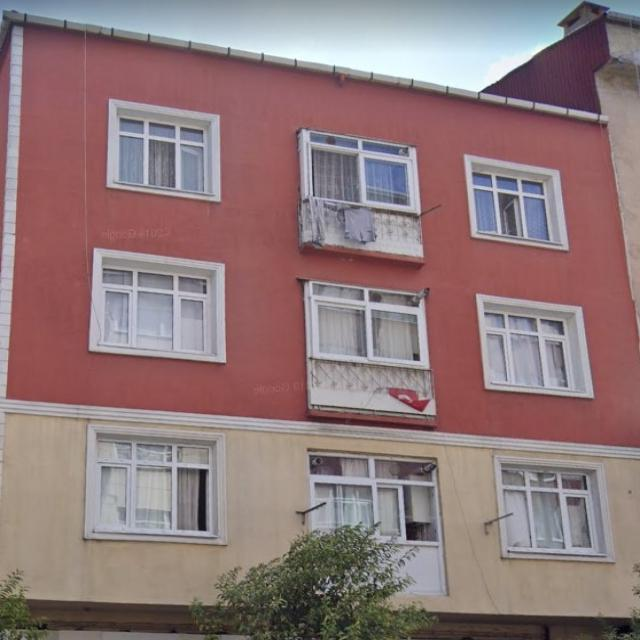Building: (0, 12, 637, 635)
